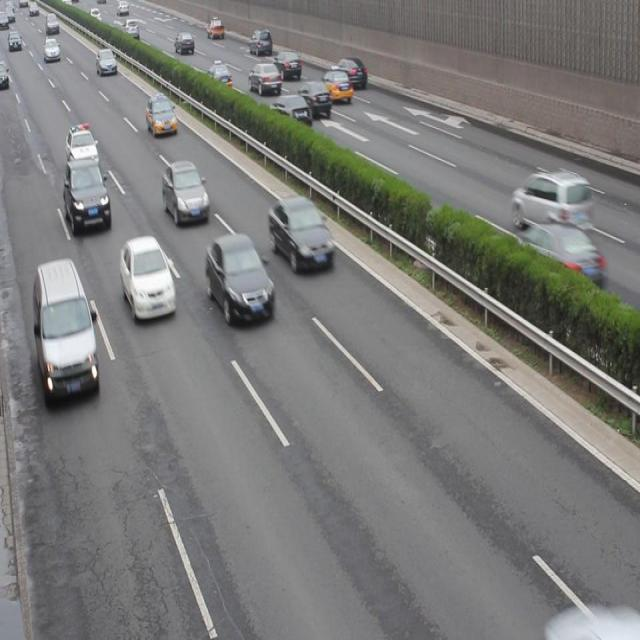car: (503, 220, 600, 293), (206, 232, 273, 325), (512, 166, 590, 236), (269, 193, 333, 270), (120, 234, 175, 321), (63, 156, 110, 232), (162, 160, 210, 224), (269, 92, 311, 132), (64, 123, 98, 169), (145, 94, 178, 136), (316, 67, 352, 105), (293, 80, 331, 116), (333, 55, 368, 91), (248, 61, 282, 94), (200, 62, 234, 94), (272, 48, 302, 81)
truck: (32, 255, 97, 399)
